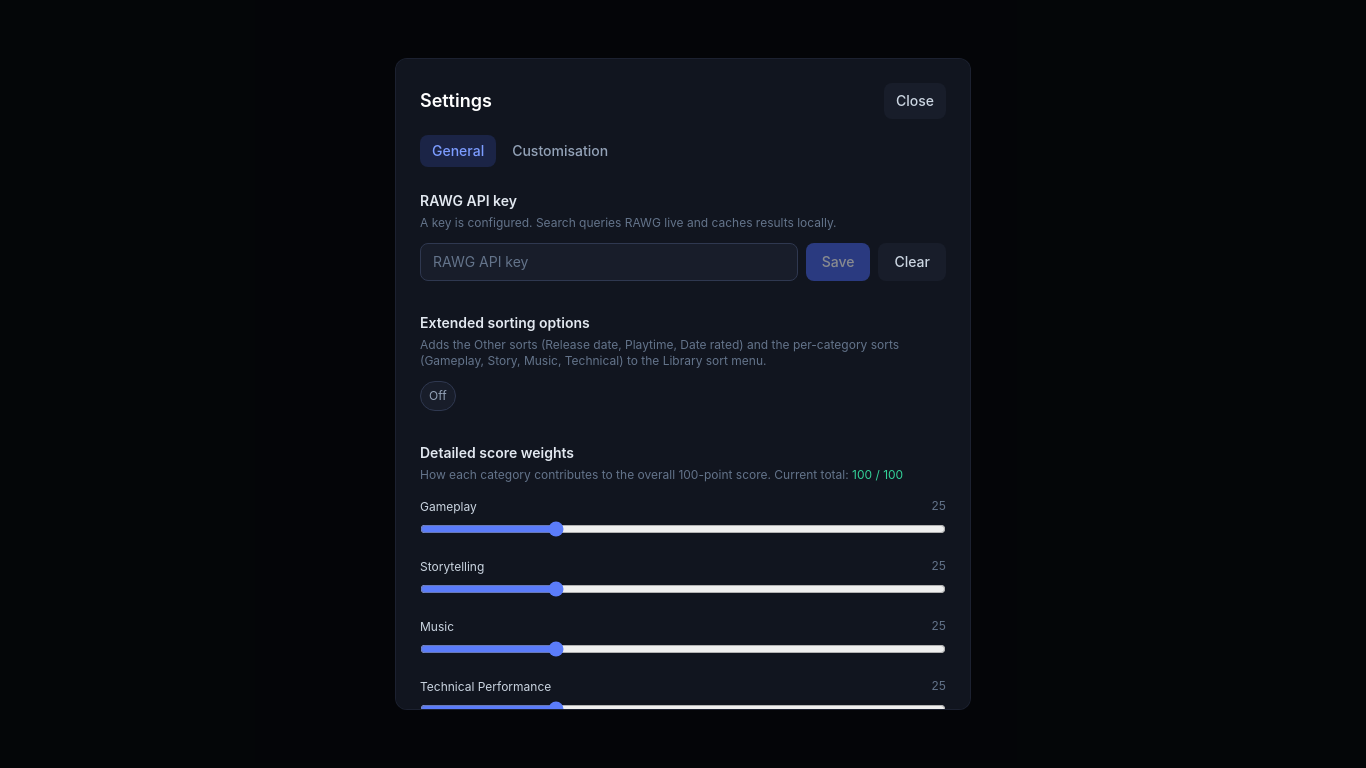
Test: SettingsModal shell › opens on the General tab and switches to Customisation
Expected: the heading "RAWG API key" is shown, [420, 192, 517, 209]
Expected: the text "Colour theme" is not shown
What coordinates should you click on to do the following:
click the button "Customisation"
I would click on:
 (560, 151)
Its box is [500, 135, 620, 167].
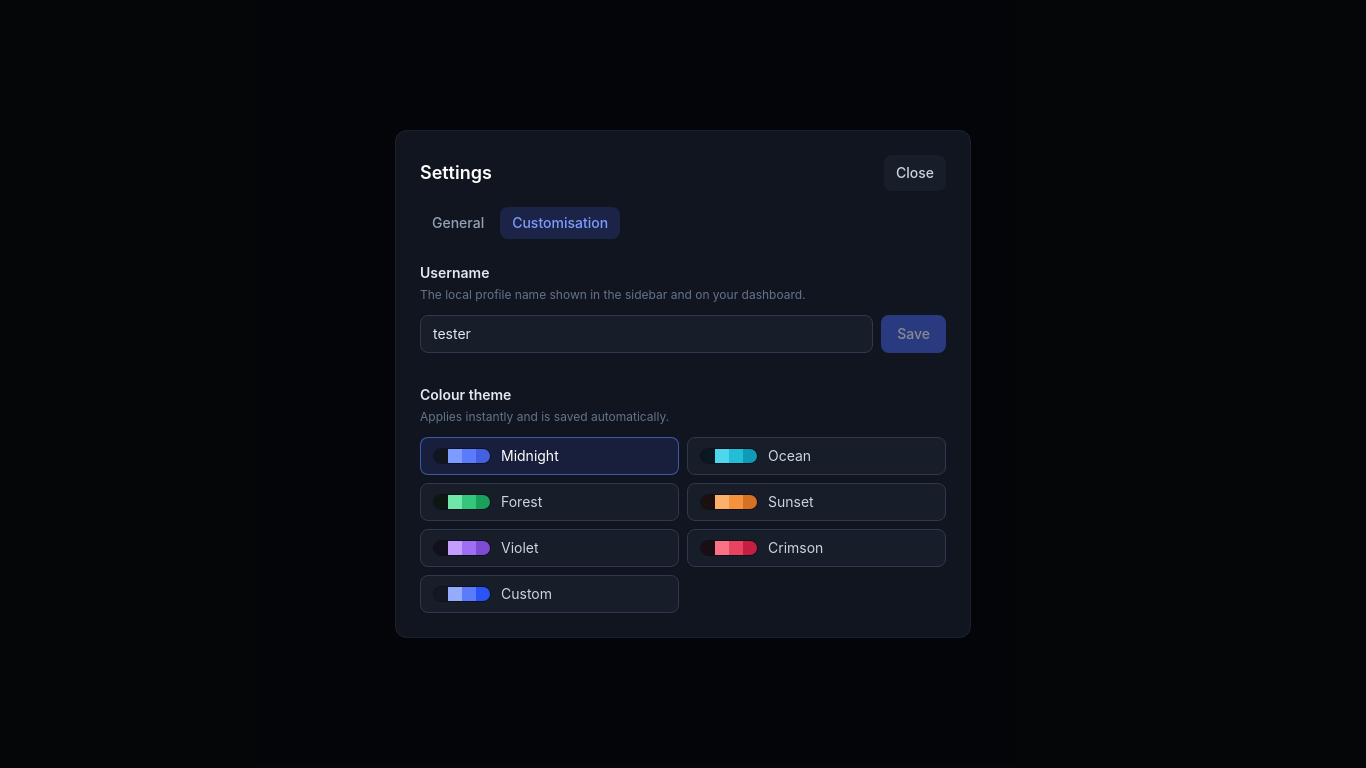
Now the heading "Colour theme" is shown, box [420, 386, 511, 403]
Now the heading "Username" is shown, box [420, 264, 490, 281]
